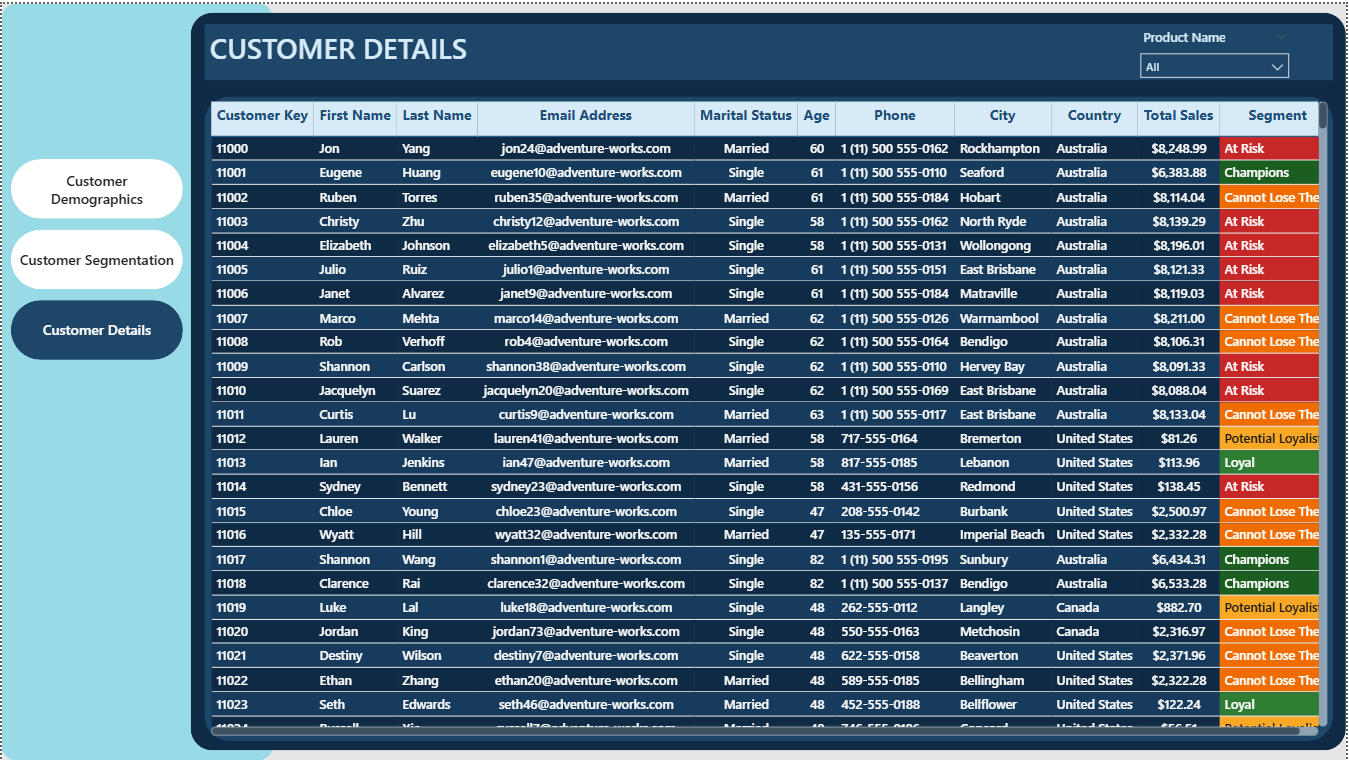

This screenshot's page, from the dashboard's own definition file:
{"tool":"powerbi","page":{"name":"Customer Details","canvas":[1280,720],"ordinal":2},"visuals":[{"type":"shape","box":[0,0,1280.4,720.2],"z":0},{"type":"shape","box":[0,0,257.5,720],"z":1000},{"type":"shape","box":[180,8.8,1100,702.5],"z":2000},{"type":"shape","box":[193.2,19.6,1074.9,53.8],"z":3000},{"type":"shape","box":[193.2,88,1074.9,613.9],"z":4000},{"type":"textbox","box":[193.2,19.6,585.7,53.8],"z":5000},{"type":"slicer","fields":{"Values":["DimProduct.Product Name"]},"box":[1074.1,19.2,162.3,68.8],"z":6000},{"type":"tableEx","fields":{"Values":["DimCustomer.CustomerKey","DimCustomer.FirstName","DimCustomer.LastName","DimCustomer.EmailAddress","DimCustomer.MaritalStatus","Sum(DimCustomer.Age)","DimCustomer.Phone","DimGeography.City","DimGeography.Country","Sum(FactInternetSales.SalesAmount)","Segment Table.Segment"]},"box":[193.2,88,1074.9,613.9],"z":7000},{"type":"pageNavigator","box":[7.9,147.7,164.6,191.6],"z":8000}]}

Visuals, with their boxes in screenshot pixels (x1, y1, x2, y2), scaled from the page's 1280x720 canvas onto the 1349x760 screenshot:
shape: Rect(0, 0, 1348, 759)
shape: Rect(0, 0, 271, 759)
shape: Rect(190, 9, 1348, 751)
shape: Rect(204, 21, 1336, 77)
shape: Rect(204, 93, 1336, 741)
textbox: Rect(204, 21, 821, 77)
slicer - DimProduct.Product Name: Rect(1132, 20, 1303, 93)
tableEx - DimCustomer.CustomerKey x DimCustomer.FirstName: Rect(204, 93, 1336, 741)
pageNavigator: Rect(8, 156, 182, 358)
